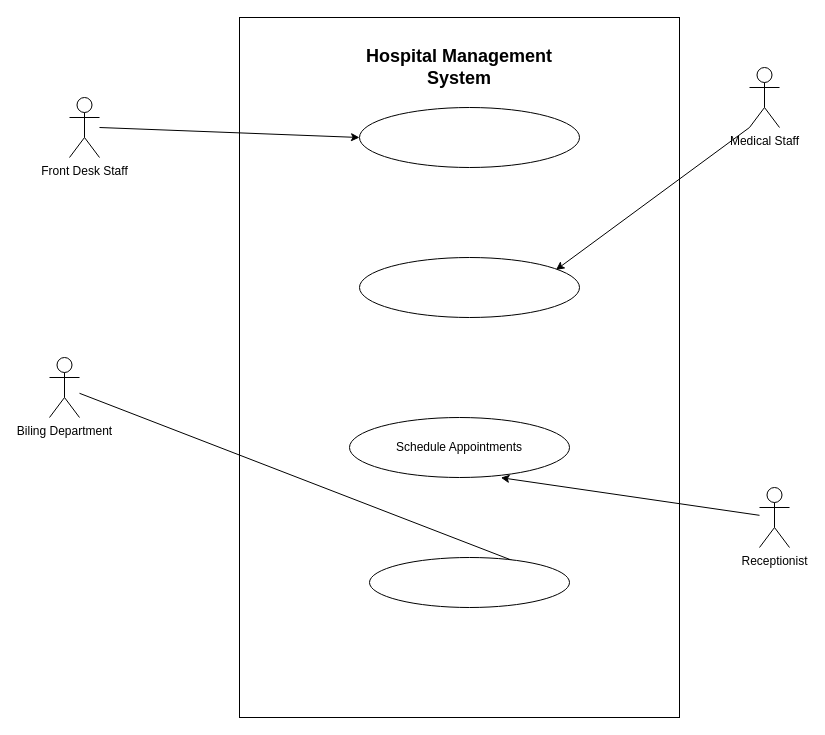
Some shapes in this 825 by 735 pixel diagram are drawn without their labels. Each missing label, with the box of its shape:
Automate Billing Process: (368, 556, 570, 608)
Manage Medical Records: (358, 256, 580, 318)
Manage Patient Admissions: (358, 106, 580, 168)
